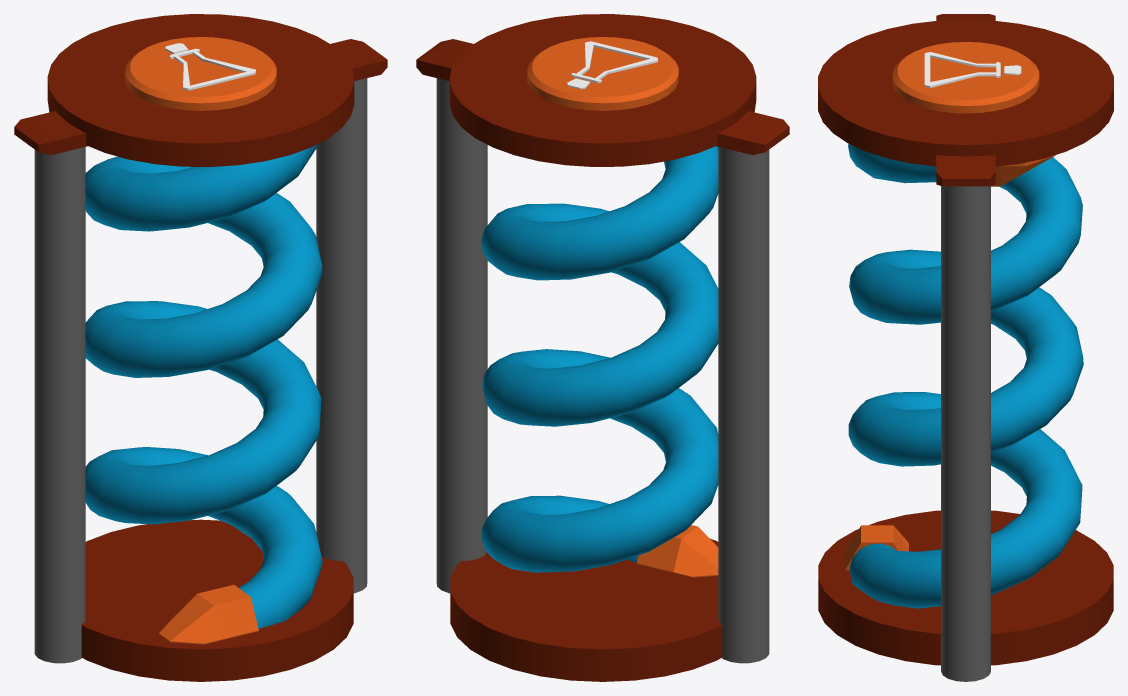
The model's file is GR_mixmachinpillar.fbx.
3 renders of one model, left to right at view 1: azimuth 30°, elevation 25°; view 2: azimuth 150°, elevation 25°; view 3: azimuth 270°, elevation 25°, orthographic. The views are drawn at different scales.
Visible parts, largest first — view 1: Cylinder_5, Cylinder, Cylinder_2, Cylinder_3, Cylinder_4, Cube, Cube_3; view 2: Cylinder_5, Cylinder, Cylinder_2, Cylinder_3, Cylinder_4, Cube, Cube_3; view 3: Cylinder_5, Cylinder_2, Cylinder, Cylinder_3, Cylinder_4, Cube, Cube_3.
Part boxes in pixels (x1=…): Cylinder_5: x1=85, y1=144, x2=322, y2=628; Cylinder: x1=34, y1=78, x2=367, y2=663; Cylinder_2: x1=14, y1=14, x2=387, y2=166; Cylinder_3: x1=81, y1=519, x2=353, y2=681; Cylinder_4: x1=125, y1=37, x2=276, y2=110; Cube: x1=159, y1=585, x2=258, y2=644; Cube_3: x1=165, y1=43, x2=255, y2=90; Cylinder_5: x1=481, y1=146, x2=718, y2=572; Cylinder: x1=436, y1=78, x2=769, y2=663; Cylinder_2: x1=416, y1=14, x2=789, y2=166; Cylinder_3: x1=450, y1=538, x2=722, y2=681; Cylinder_4: x1=527, y1=37, x2=678, y2=110; Cube: x1=636, y1=525, x2=718, y2=577; Cube_3: x1=567, y1=41, x2=657, y2=89; Cylinder_5: x1=848, y1=144, x2=1083, y2=608; Cylinder_2: x1=818, y1=14, x2=1113, y2=186; Cylinder: x1=941, y1=186, x2=990, y2=681; Cylinder_3: x1=818, y1=510, x2=1113, y2=665; Cylinder_4: x1=892, y1=42, x2=1039, y2=113; Cube: x1=845, y1=155, x2=1055, y2=570; Cube_3: x1=924, y1=52, x2=1021, y2=87.
Bounding box in the file's own units: 69.37 × 105 × 52.61.
